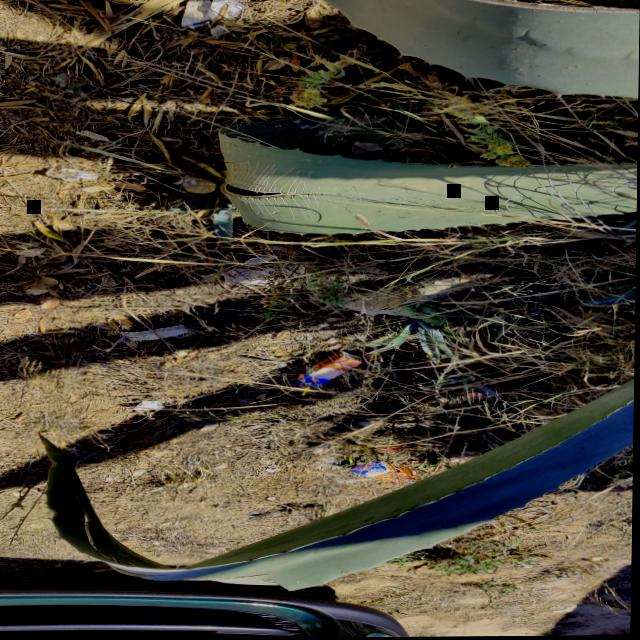Drink carton: (295, 352, 365, 389), (344, 459, 419, 485)
Other plastic: (182, 0, 212, 29), (46, 168, 101, 182)
Plastic straw: (302, 387, 313, 396)
Unlabeled litter: (123, 325, 188, 341), (206, 0, 241, 22), (361, 444, 408, 456), (135, 401, 164, 410)
